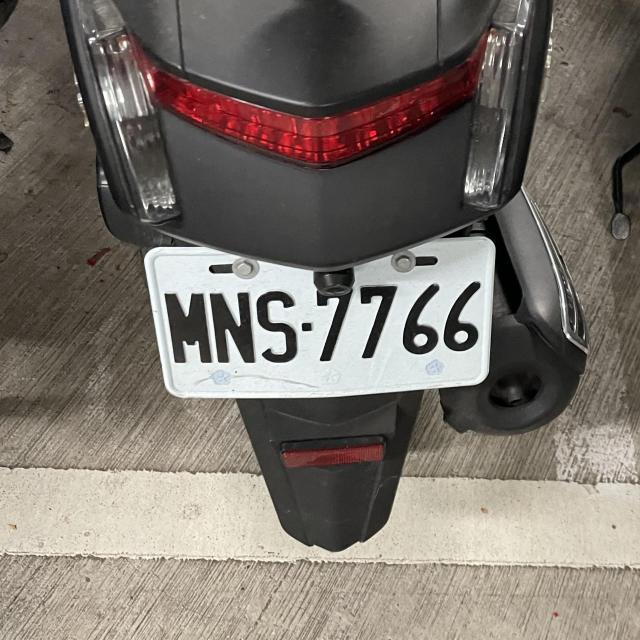W: (137, 228, 500, 406)
